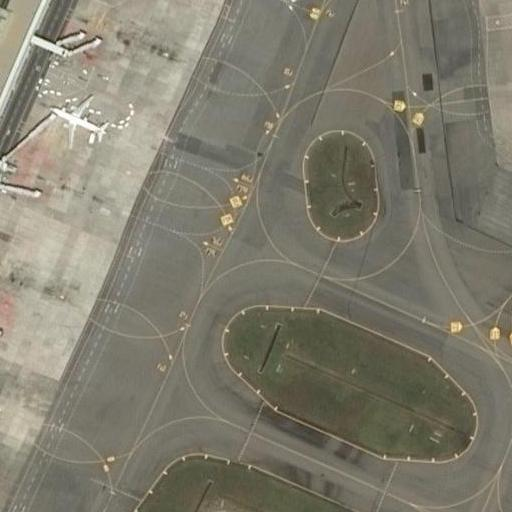Aircraft: (49, 96, 109, 147), (0, 389, 4, 434)
